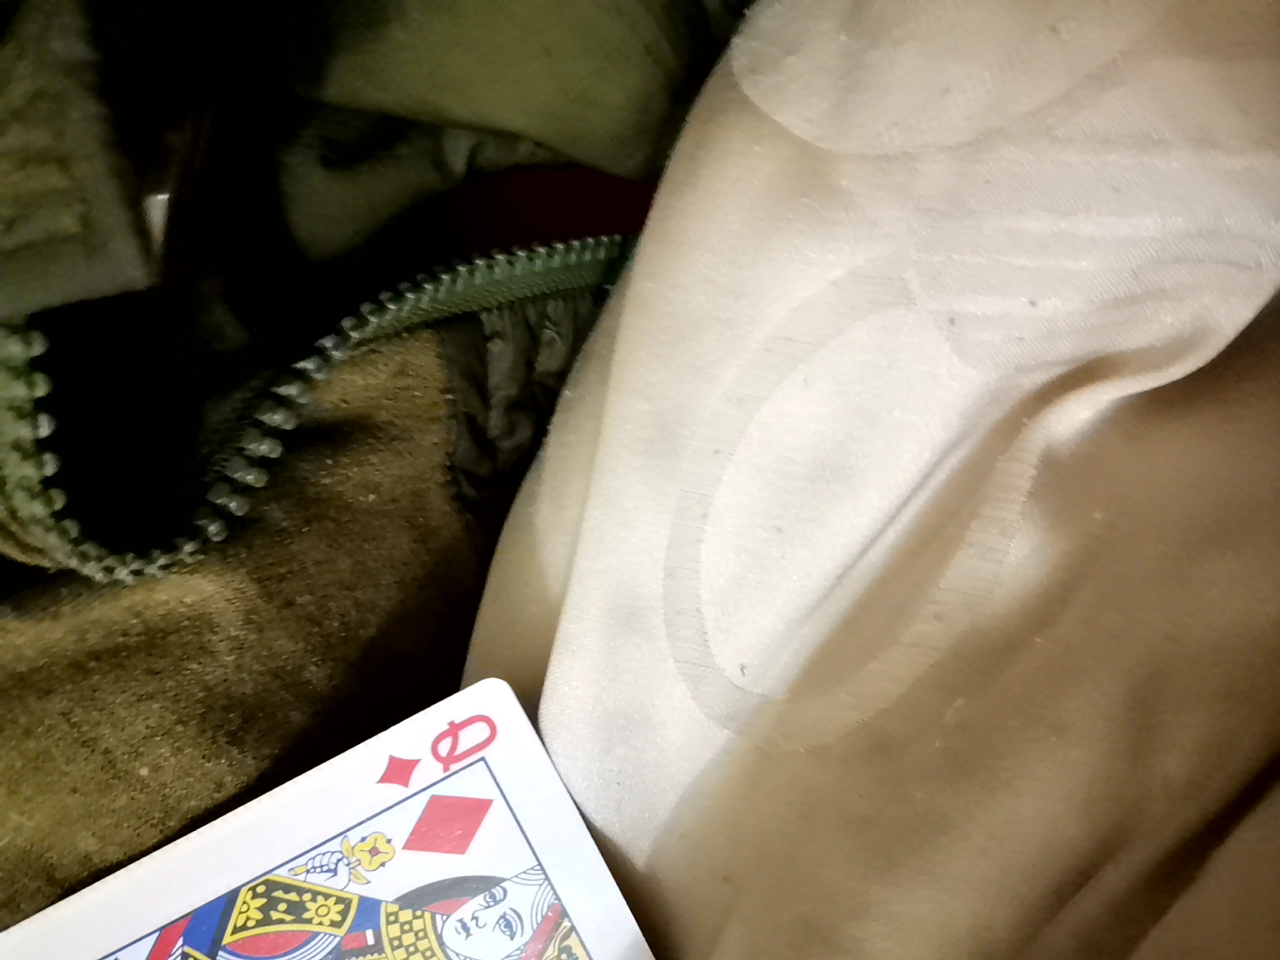fk q: (0, 688, 698, 959)
